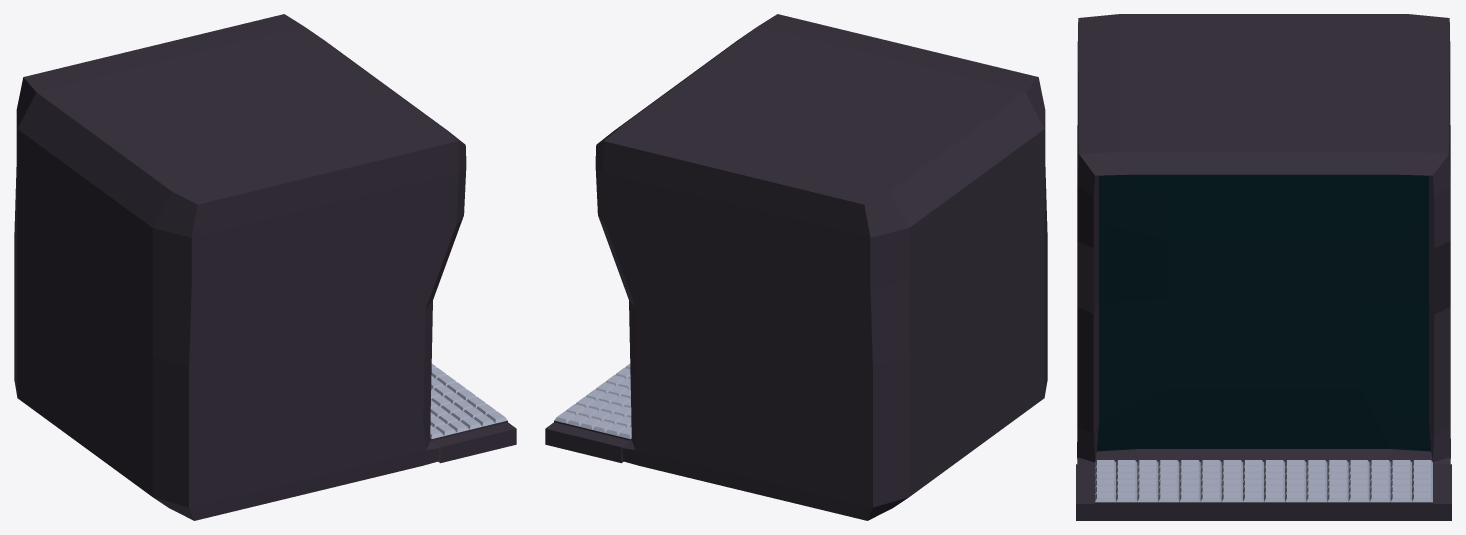
Rendered from Monitor.fbx.
The picture shows the model from 3 angles, left to right: view 1: azimuth 30°, elevation 25°; view 2: azimuth 150°, elevation 25°; view 3: azimuth 270°, elevation 25°; orthographic projection. The views are drawn at different scales.
Visible parts, largest first — view 1: Cube, Cube.001; view 2: Cube, Cube.001; view 3: Cube, Cube.001.
Boxes of the visible parts, left/top/right/bottom form: Cube: left=14, top=14, right=466, bottom=520; Cube.001: left=430, top=363, right=516, bottom=463; Cube: left=595, top=14, right=1047, bottom=520; Cube.001: left=545, top=363, right=631, bottom=463; Cube: left=1077, top=14, right=1450, bottom=464; Cube.001: left=1076, top=460, right=1451, bottom=520.
Size of the model in its own units: 225 by 199 by 200.
